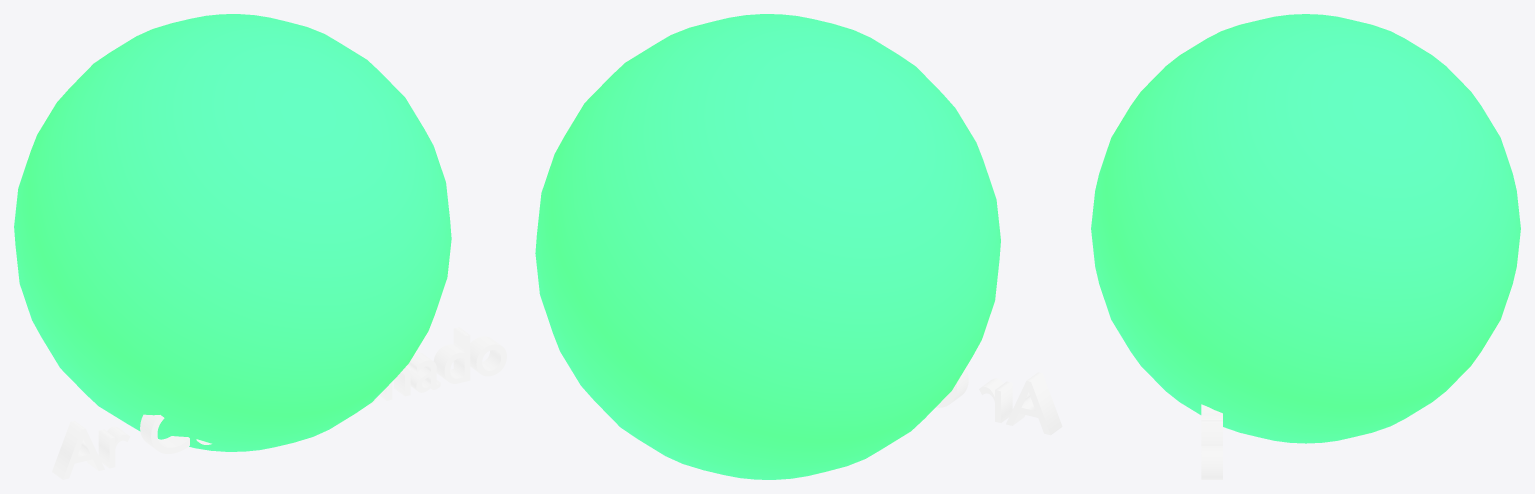
Rendered from filtro-de-aro-condicionado.glb.
3 views of the same model, side by side, from view 1: azimuth 30°, elevation 25°; view 2: azimuth 150°, elevation 25°; view 3: azimuth 270°, elevation 25° (orthographic). The views are drawn at different scales.
Visible parts, largest first — view 1: Sphere.004, Text.005; view 2: Sphere.004, Text.005; view 3: Sphere.004, Text.005.
Boxes of the visible parts, bbox=[...] form: Sphere.004: bbox=[14, 14, 451, 451]; Text.005: bbox=[52, 327, 506, 479]; Sphere.004: bbox=[535, 14, 1000, 479]; Text.005: bbox=[936, 368, 1062, 435]; Sphere.004: bbox=[1091, 14, 1520, 443]; Text.005: bbox=[1201, 404, 1222, 479].
Bounding box in the file's own units: 6.02 × 5.15 × 5.15.
